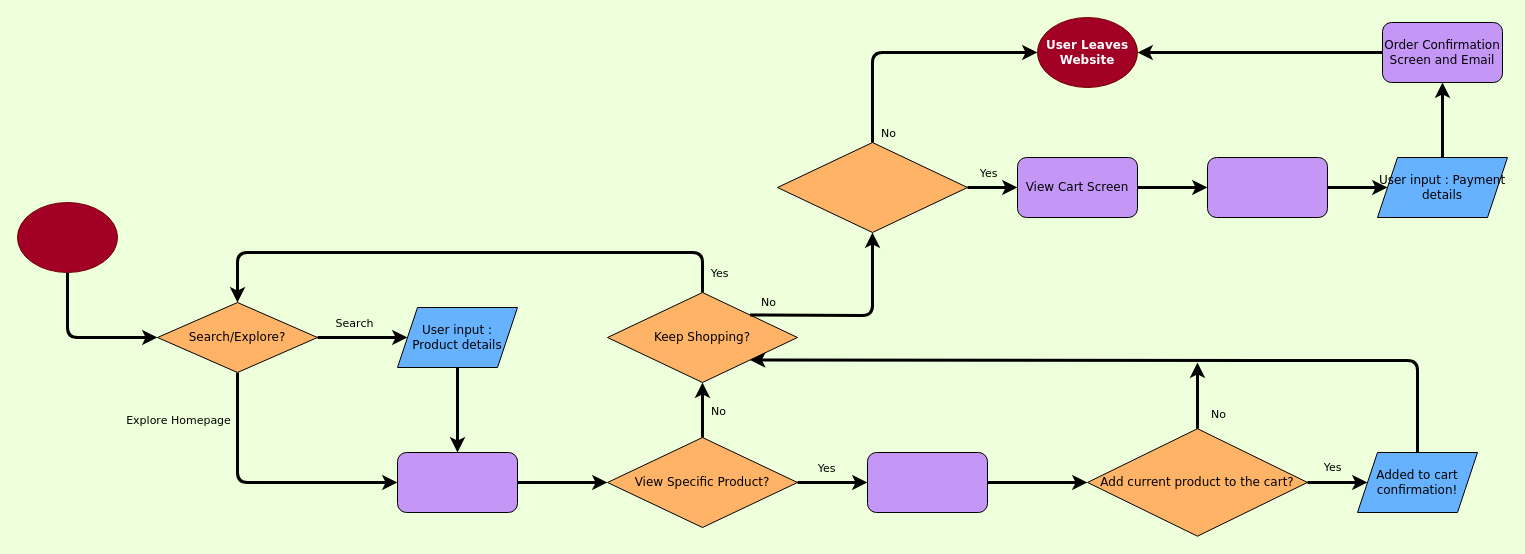
Some shapes in this 1525 by 554 pixel diagram are drawn without their labels. Each missing label, with the centre of its shape:
Checkout Cart?: the point at 872,187
Homepage: the point at 67,237
Open Product Details Page: the point at 927,482
View Payment Screen: the point at 1267,187
View Products: the point at 457,482
